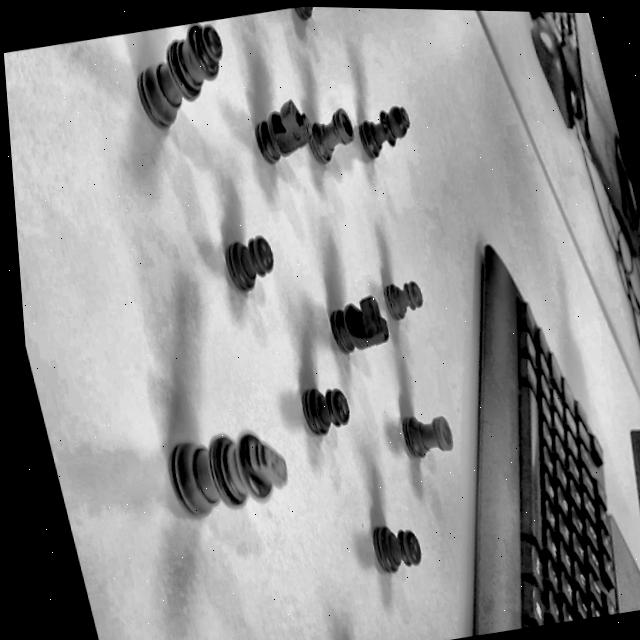black-bishop: (344, 90, 422, 173)
black-king: (145, 402, 309, 548)
black-knight: (239, 87, 326, 188), (315, 278, 398, 374)
black-pawn: (202, 207, 291, 319), (287, 363, 360, 456), (355, 512, 434, 590), (374, 259, 434, 332), (289, 6, 344, 40)
black-queen: (114, 16, 248, 150)
black-rook: (296, 83, 368, 184), (381, 404, 464, 478)
